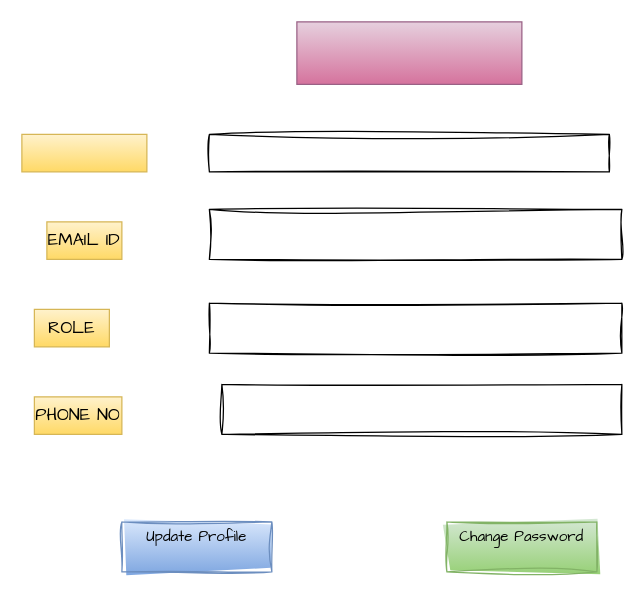
The diagram is 644 pixels wide and 605 high, and some of its shapes have lost their labels. The shapes that lost their labels are listed below. From the top down, each one's box as (x1, y1, x2, y2) in pixels, then its label:
(296, 21, 522, 84): PROFILE
(21, 133, 147, 172): NAME
